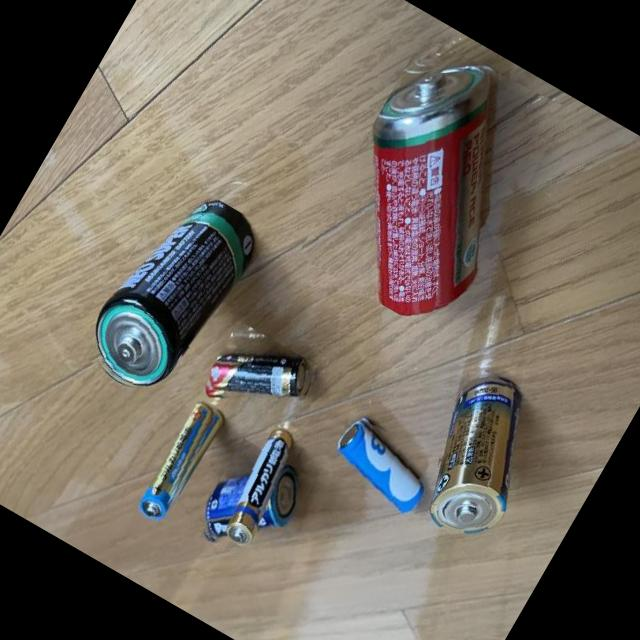Hazard: (296, 27, 576, 340), (71, 175, 271, 412), (392, 358, 564, 552), (188, 437, 318, 575), (198, 319, 326, 440), (321, 408, 444, 518), (212, 422, 310, 553), (133, 396, 229, 528)
